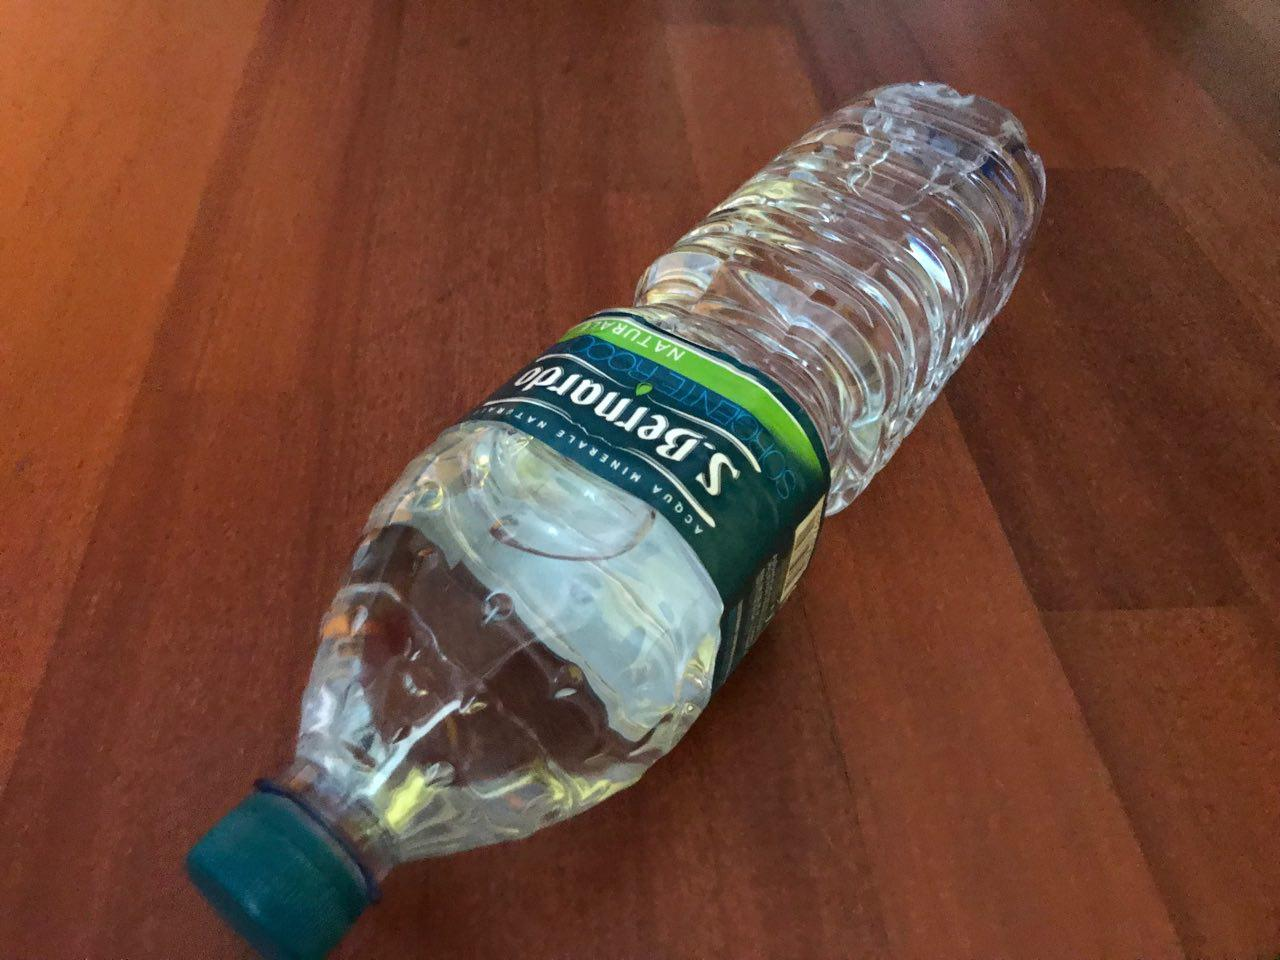san_bernardo: (180, 79, 1049, 960)
